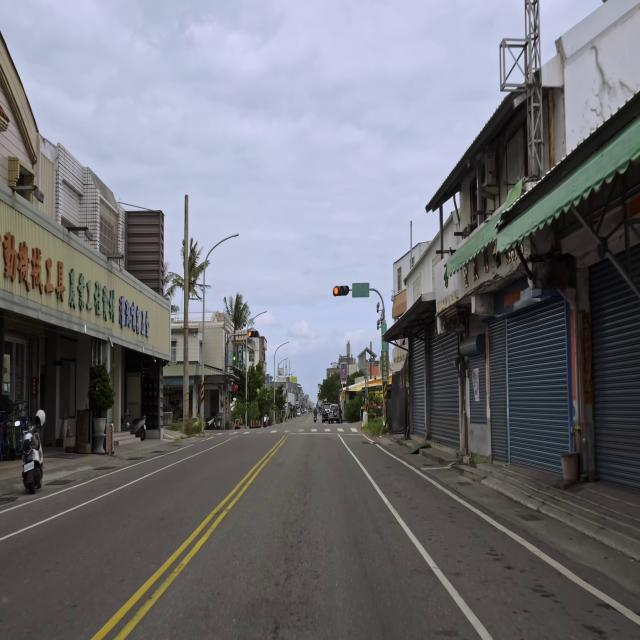red light: (332, 286, 350, 296), (248, 330, 259, 338)
